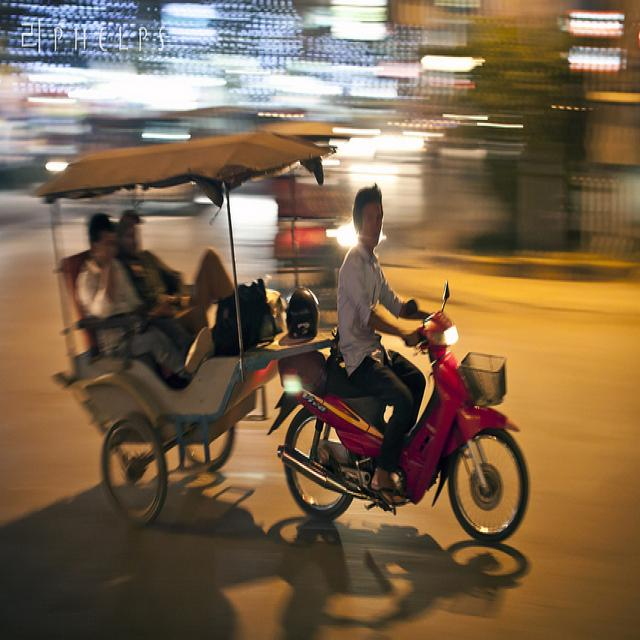motor: (268, 307, 529, 547)
